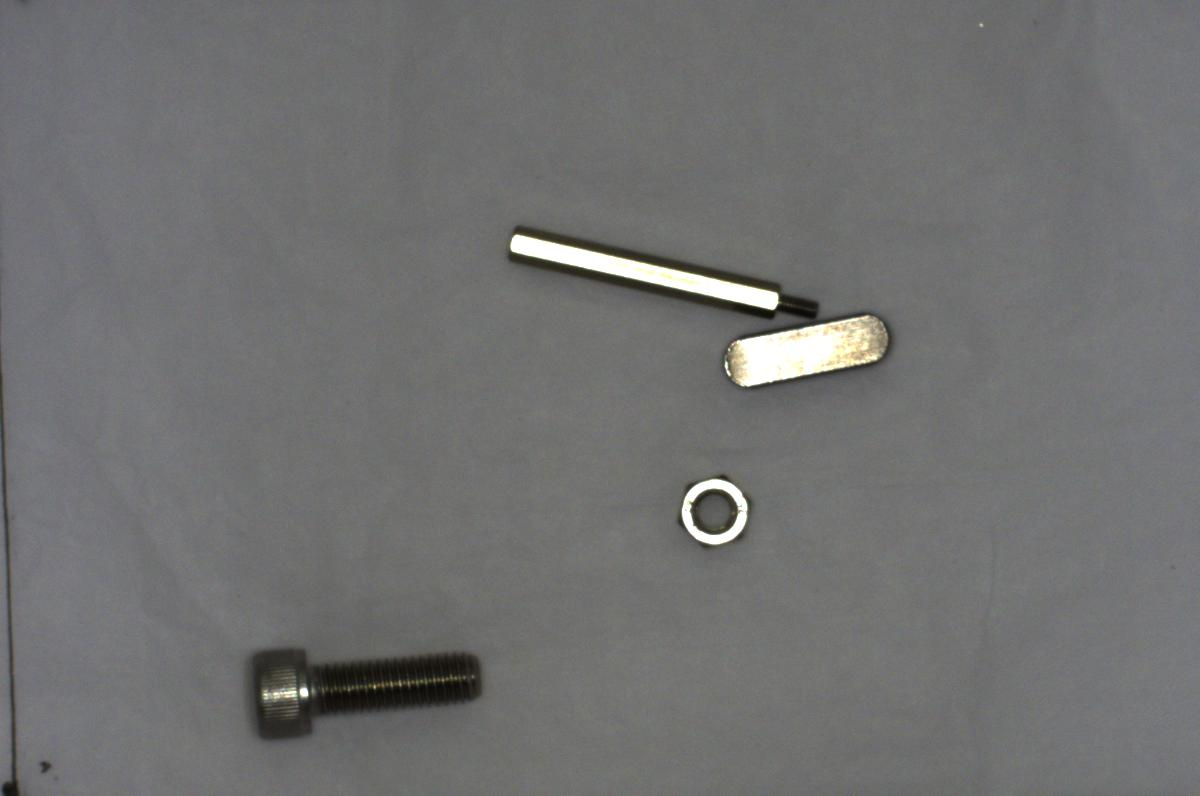Hexagon nut: (667, 463, 758, 552)
Hexagon screw: (240, 634, 493, 749)
Hexagonal steel column: (498, 220, 822, 326)
Keybar: (717, 307, 900, 395)
